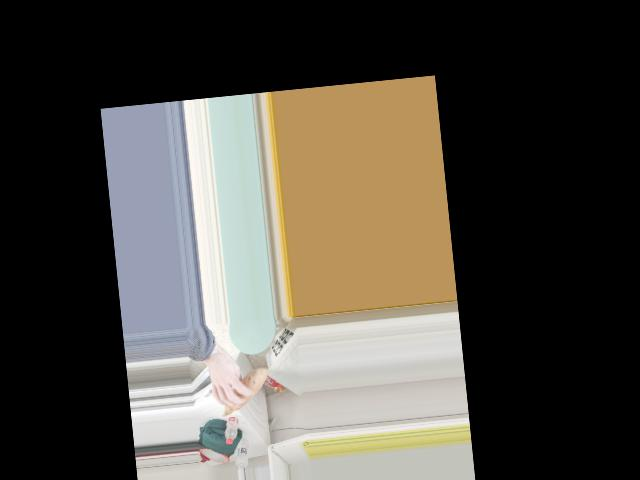sweet_potato: (215, 368, 268, 415)
